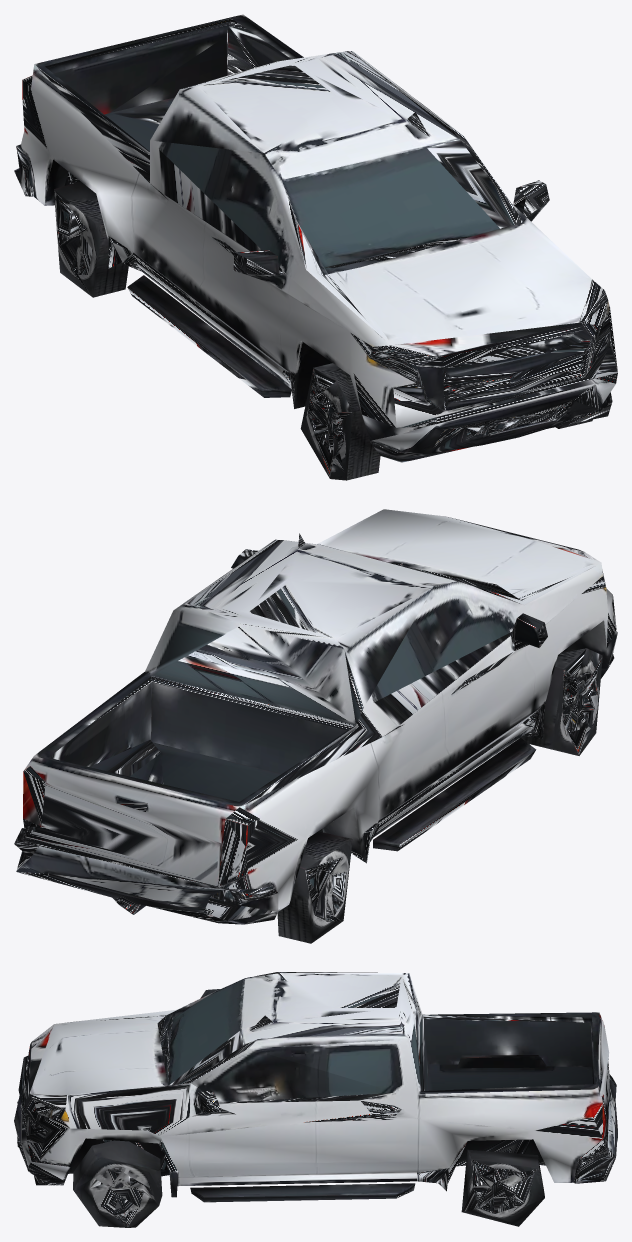
File: teleopPickup.glb
3 renders of one model, top to bottom at view 1: azimuth 30°, elevation 25°; view 2: azimuth 150°, elevation 25°; view 3: azimuth 270°, elevation 25°, orthographic. The views are drawn at different scales.
Parts seen in each view (by area): view 1: pickup; view 2: pickup; view 3: pickup.
Part boxes in pixels (left/top/right/bottom): pickup: left=14, top=14, right=617, bottom=480; pickup: left=14, top=509, right=617, bottom=943; pickup: left=14, top=972, right=617, bottom=1227.
Size of the model in its own units: 2.37 by 1.84 by 5.29.
Materials: 1 (1 with a texture image).
